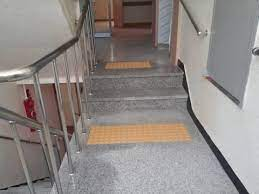guide_blocks: (88, 124, 189, 141), (106, 60, 151, 69)
